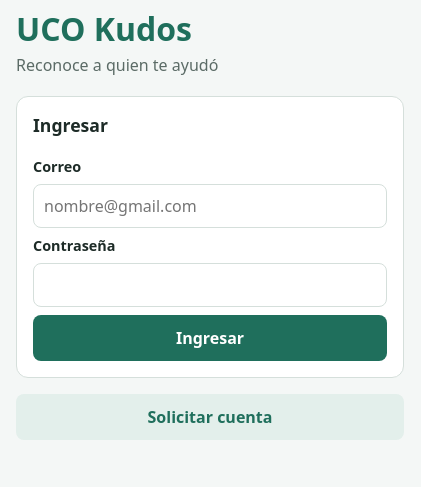
Test case: Ingreso › muestra el mensaje cuando la solicitud sigue pendiente
Type "ana.gomez1111@uco.net.co" into the field labelled "Correo" at [210, 206], box [33,184,387,228]
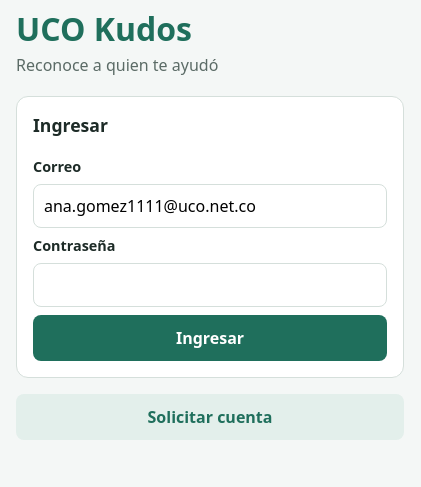
Type "x" into the password field labelled "Contraseña" at [210, 285], box [33,263,387,307]
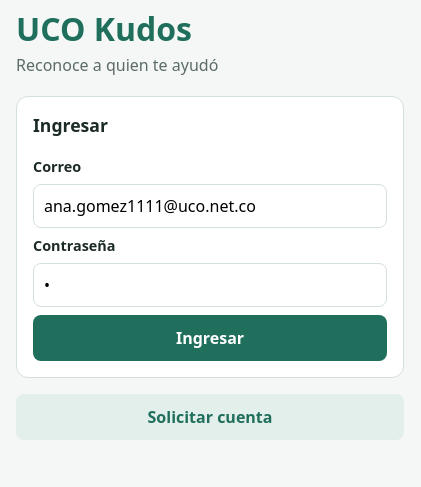
Click the button "Ingresar" at [210, 338], box [33,315,387,361]
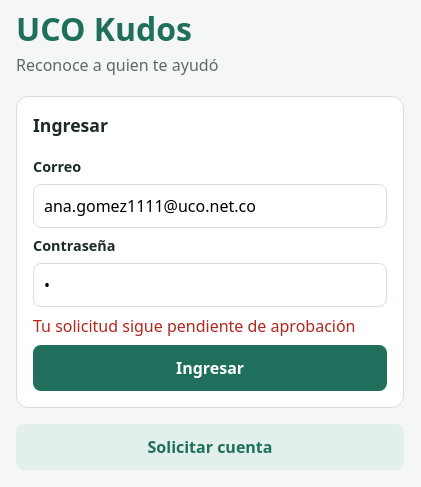
Now the text "Tu solicitud sigue pendiente de aprobación" is shown, box [33,315,387,337]
